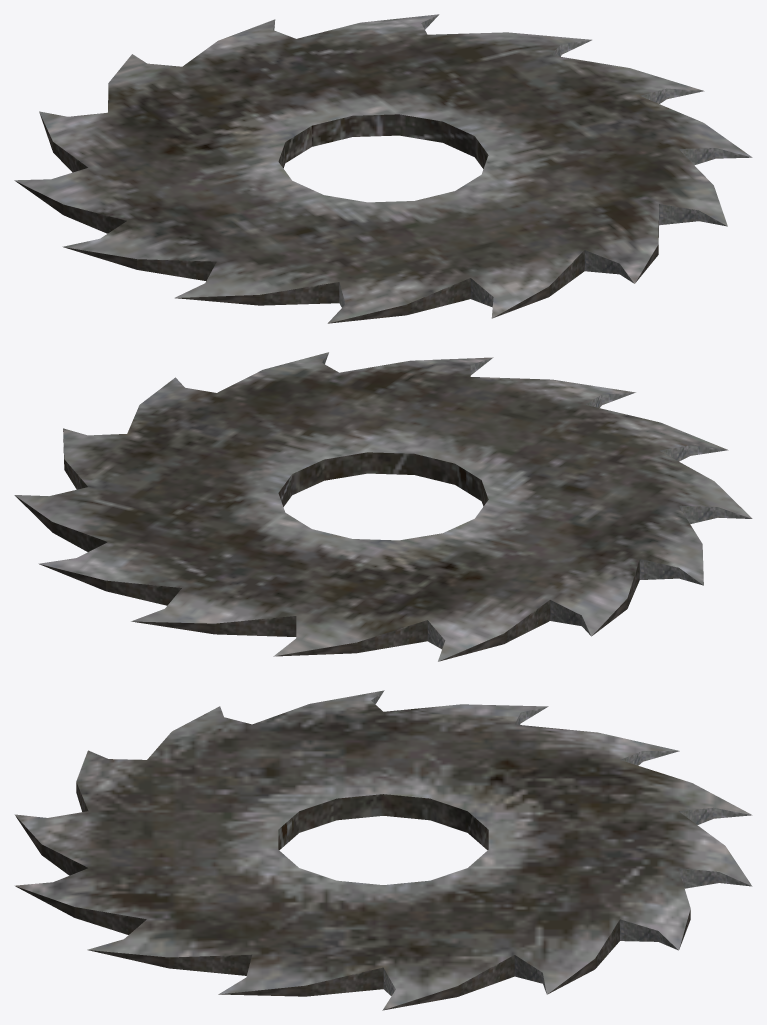
File: buzzsaw.dae
The picture shows the model from 3 angles, top to bottom: view 1: azimuth 30°, elevation 25°; view 2: azimuth 150°, elevation 25°; view 3: azimuth 270°, elevation 25°; orthographic projection. The views are drawn at different scales.
Parts seen in each view (by area): view 1: pCylinder1; view 2: pCylinder1; view 3: pCylinder1.
Part boxes in pixels (x1,y1,x2,y2): pCylinder1: (14, 14, 752, 323); pCylinder1: (14, 352, 752, 661); pCylinder1: (14, 690, 752, 1010).
Size of the model in its own units: 0.4063 by 0.0129 by 0.3964.
